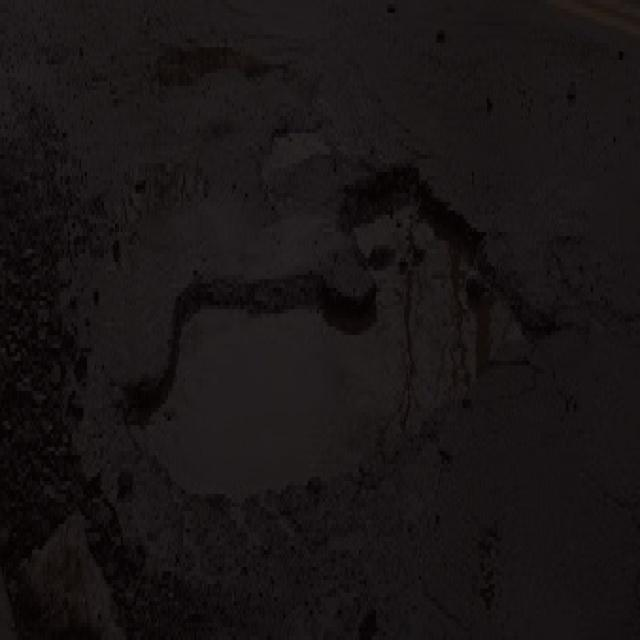Pothole: (95, 147, 552, 522)
